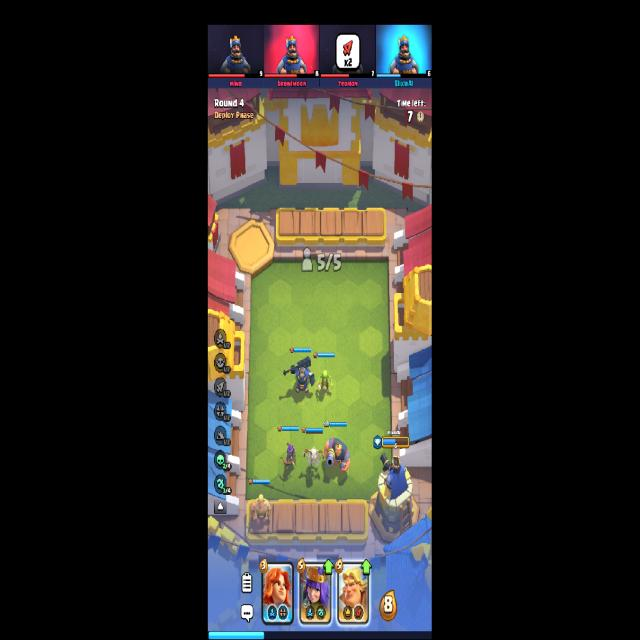archer_queen: (282, 442, 296, 472)
card_archer_queen: (300, 560, 332, 624)
card_golden_knight: (338, 559, 368, 625)
card_royal_giant: (324, 437, 351, 474)
card_valkyrie: (261, 562, 294, 626)
goblin: (317, 369, 333, 392)
golden_knight: (248, 495, 272, 531)
skeleton_dragon: (303, 446, 324, 471)
skeleton_king: (282, 354, 316, 393)
